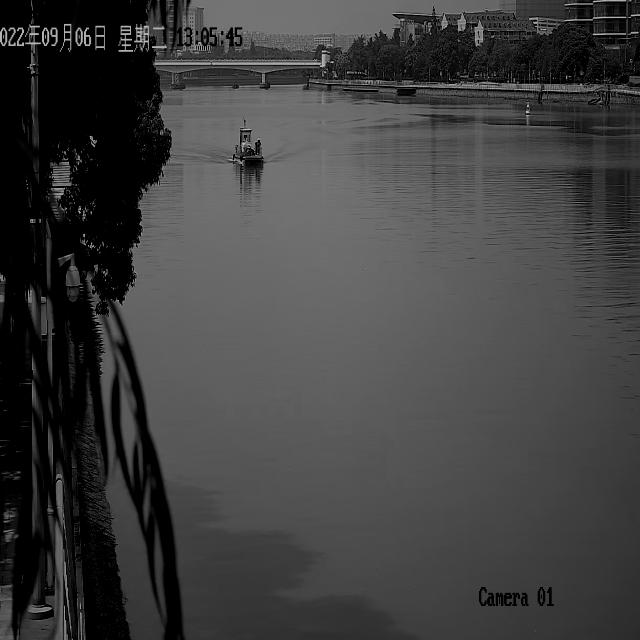ship: (232, 115, 263, 164), (232, 80, 238, 88)
